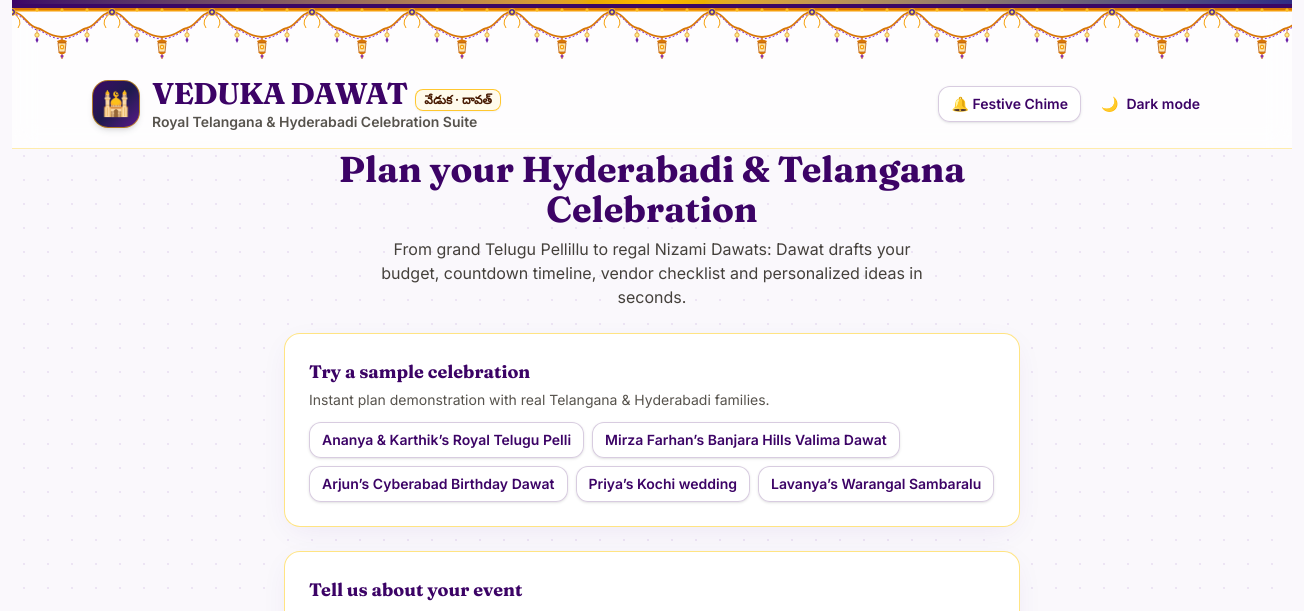
Test case: App (offline judge path) › checks off a task on the timeline and updates progress
What coordinates should you click on to do the following:
click the button "Arjun’s Cyberabad Birthday Dawat"
I would click on:
 (438, 484)
Its box is [309,466,568,502].
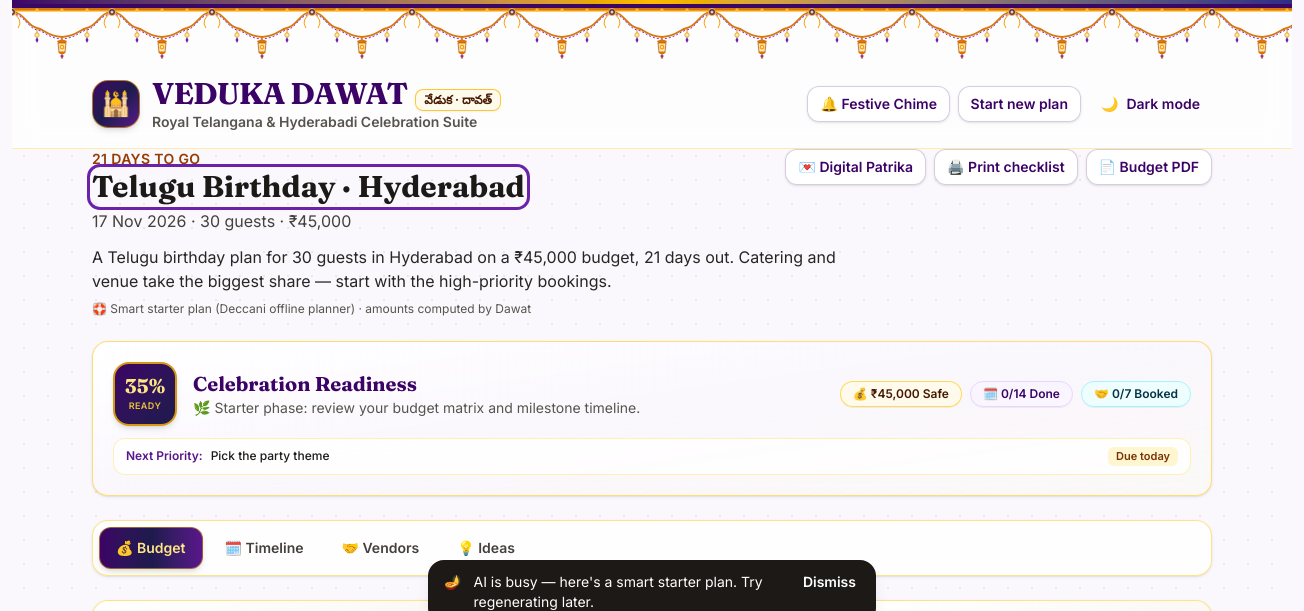
What coordinates should you click on to do the following:
click the tab "🗓️ Timeline"
I would click on:
 (264, 548)
Its box is [208,527,320,569].
(page scrolled)
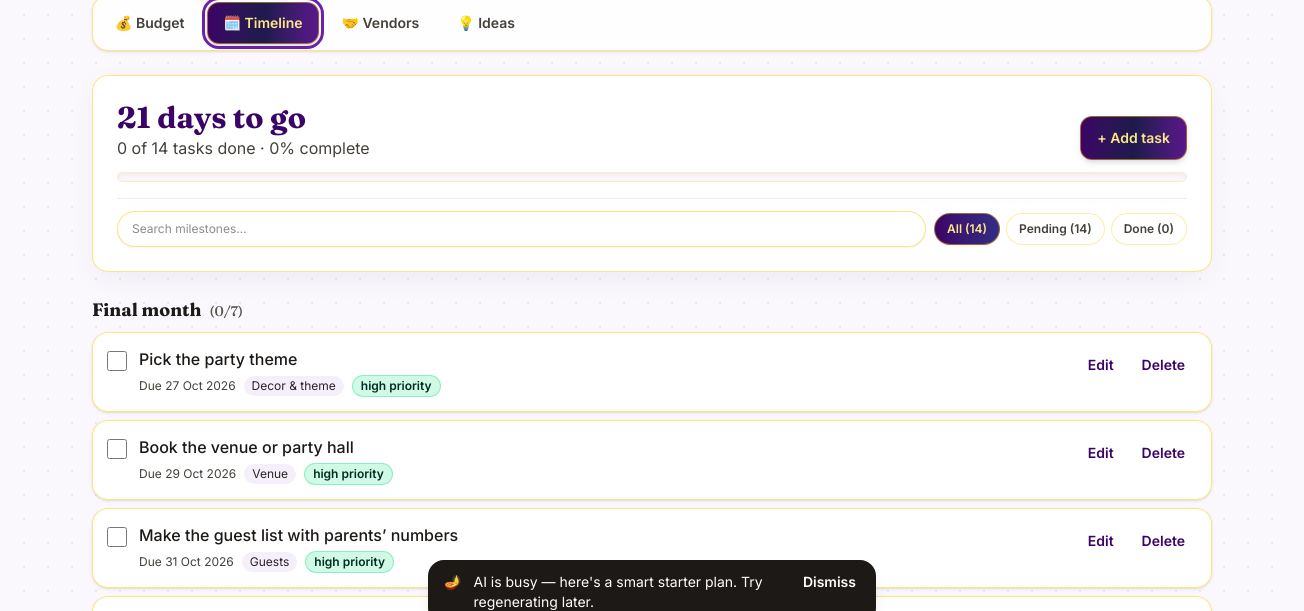
Expected: the heading "21 days to go" is shown, [117,99,306,136]
What coordinates should you click on to do the following:
click the checkbox labelled "Pick the party theme"
I would click on:
 (117, 361)
Its box is [107,351,127,371].
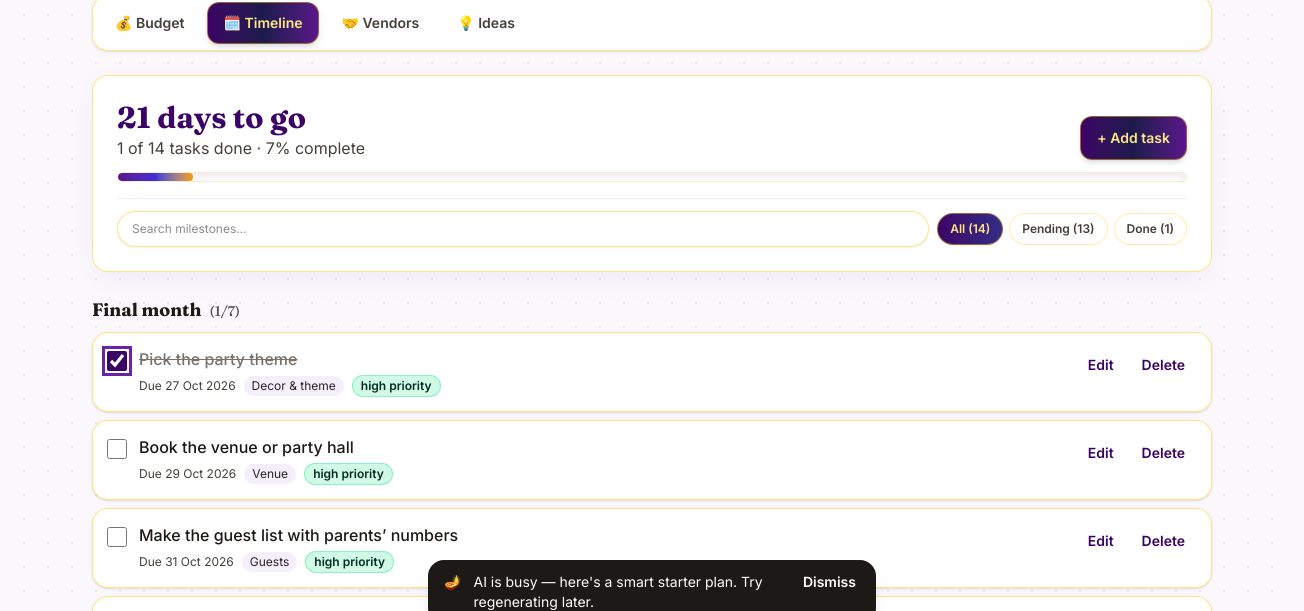
Expected: the checkbox labelled "Pick the party theme" is checked, [107,351,127,371]
Expected: the text "1 of 14 tasks done · 7% complete" is shown, [117,136,365,160]
